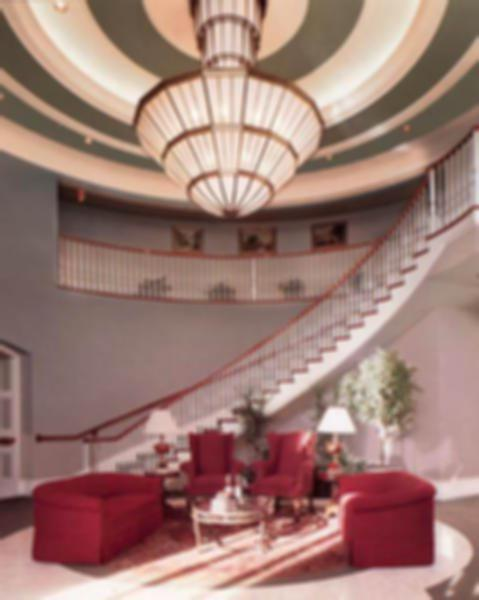Escaleras: (84, 191, 429, 472)
